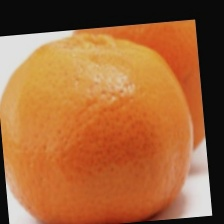orange: (36, 42, 208, 212)
